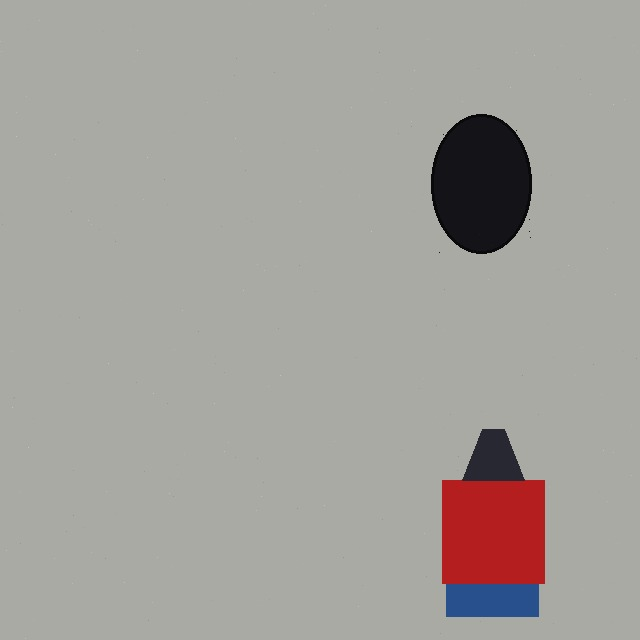person: (400, 494, 584, 616)
pothole: (431, 114, 531, 253)
vehicle: (442, 429, 544, 583)
